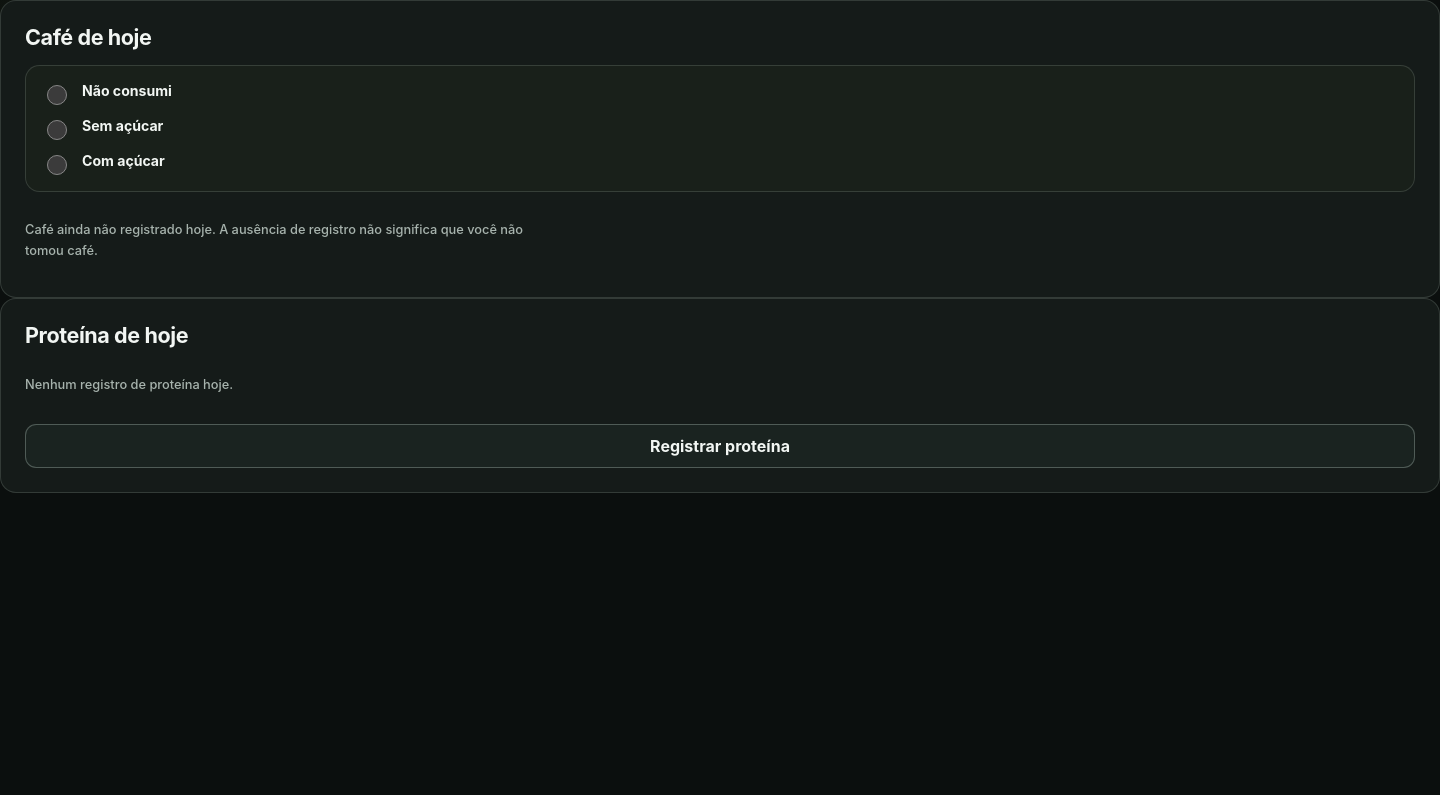
it: daily protein record › hides the quantities when the user did not consume protein
This screenshot has width=1440, height=795.
Click the button "Registrar proteína": (720, 446) left=25, top=424, right=1415, bottom=468
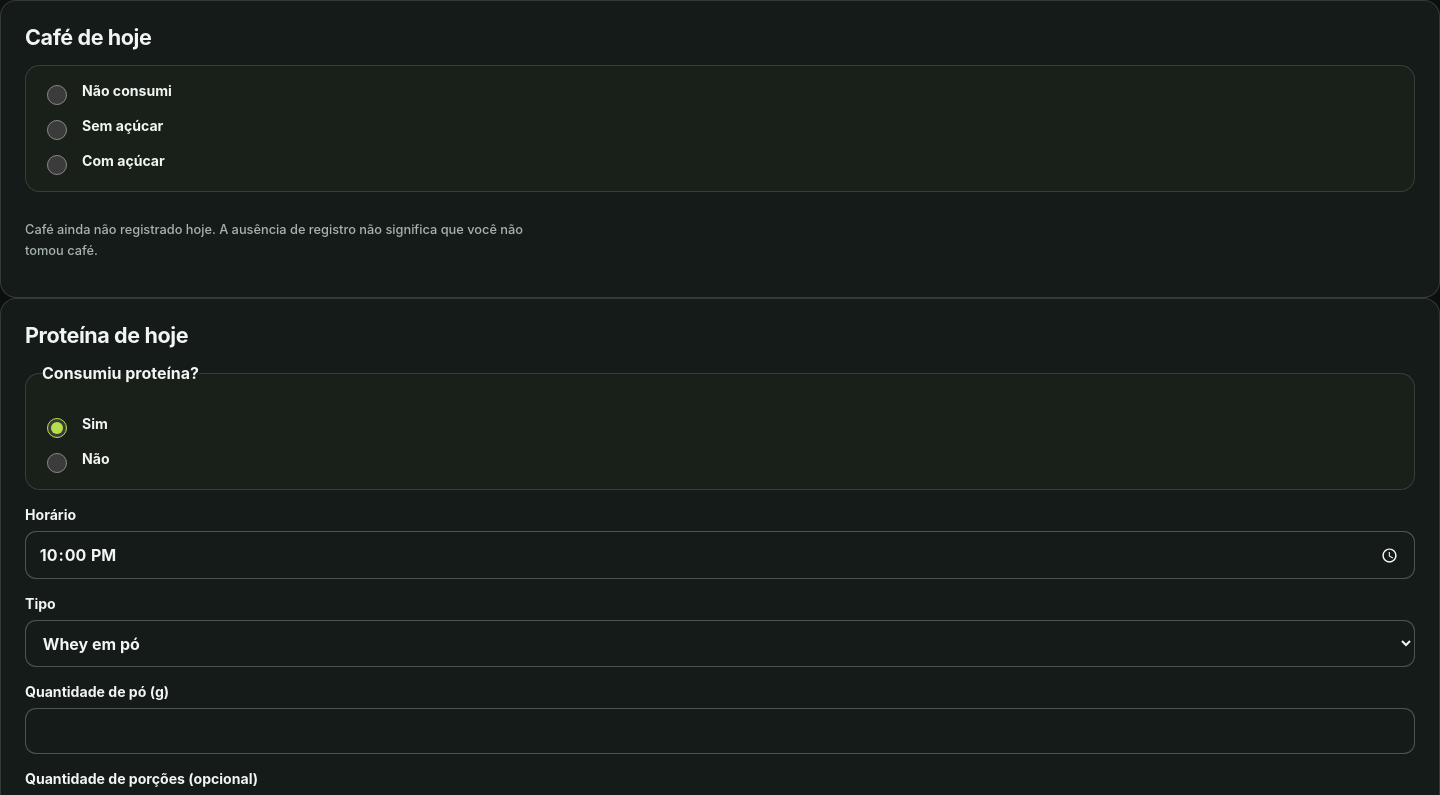
Click the radio button labelled "Não": (57, 463) left=47, top=453, right=67, bottom=473
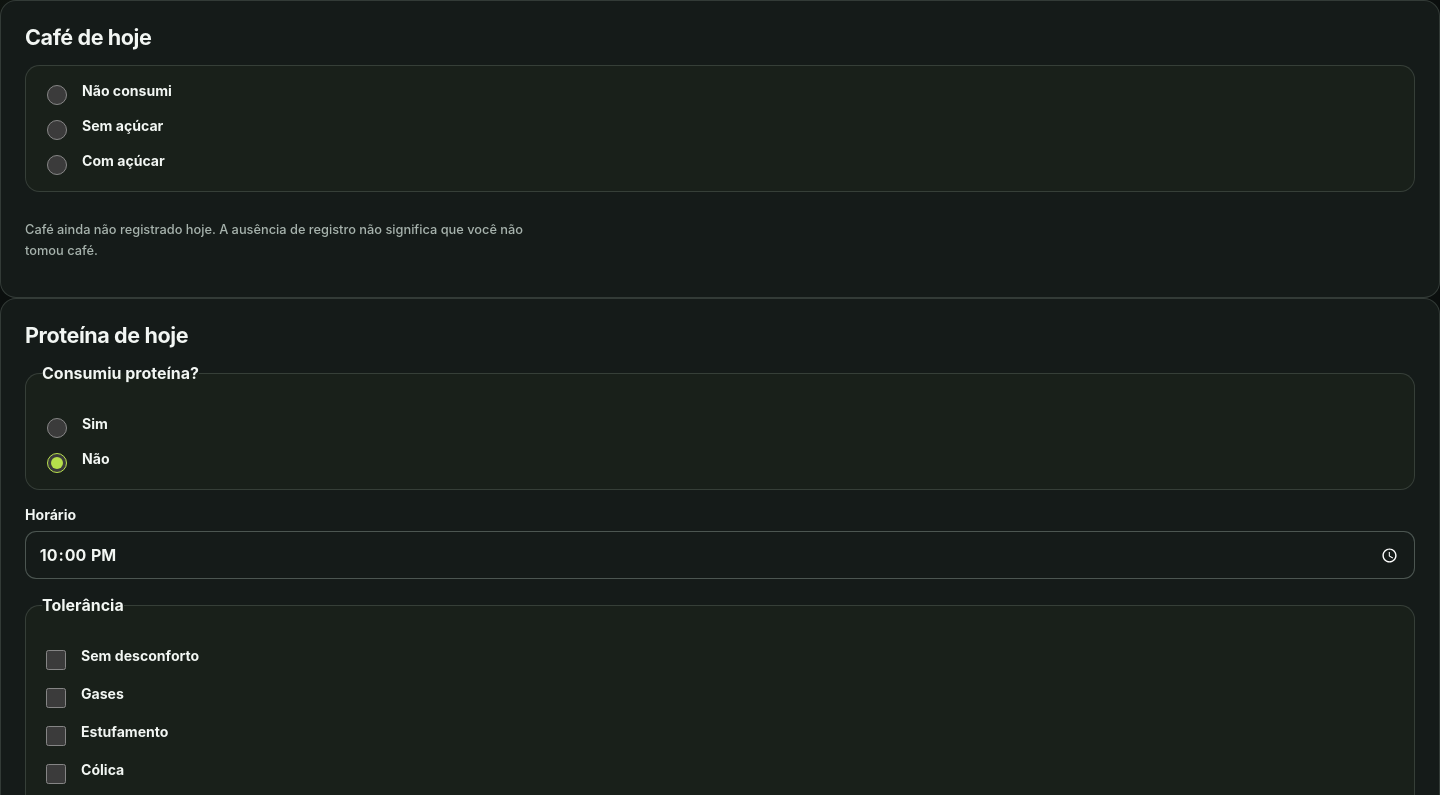
Now the label labelled "Quantidade de pó" is gone
